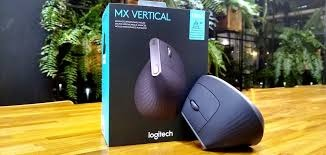mouse: (170, 75, 271, 155)
